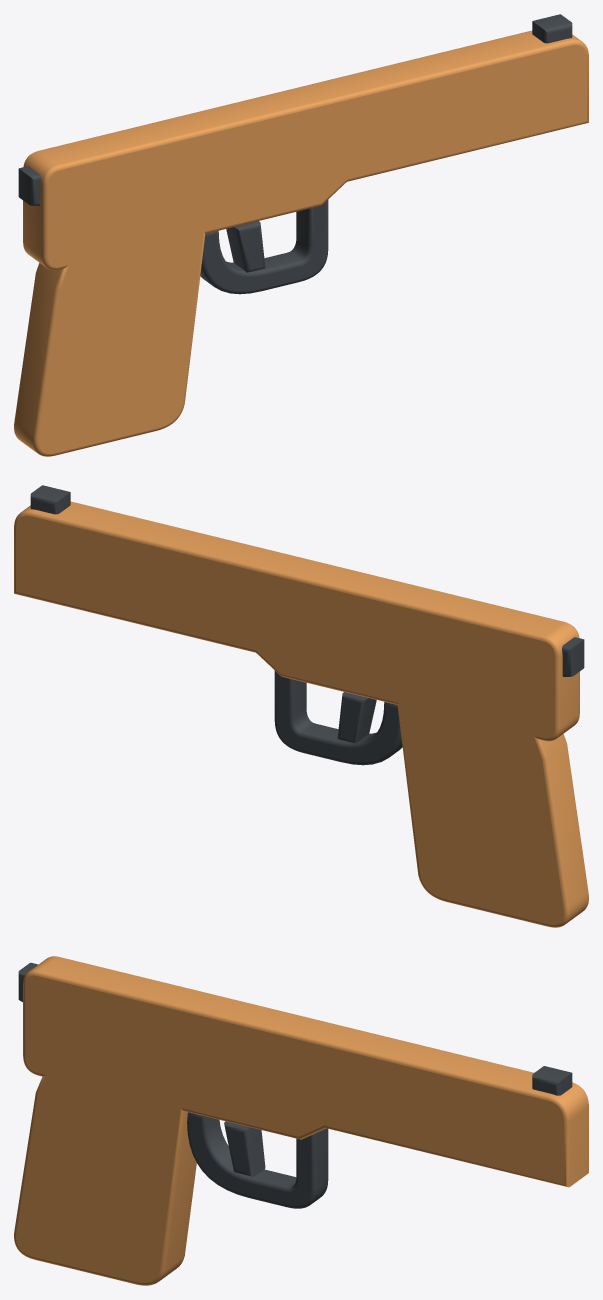
Rendered from deagle.glb.
3 renders of one model, top to bottom at view 1: azimuth 30°, elevation 25°; view 2: azimuth 150°, elevation 25°; view 3: azimuth 330°, elevation 25°, orthographic.
Parts seen in each view (by area): view 1: paint_0, paint_2, metal_3, metal_4, metal_5, metal_1; view 2: paint_0, paint_2, metal_3, metal_4, metal_5, metal_1; view 3: paint_0, paint_2, metal_3, metal_4, metal_5.
Part boxes in pixels (x1,y1,x2,y2): paint_0: (23,30,588,270); paint_2: (14,232,205,456); metal_3: (200,199,328,294); metal_4: (226,221,265,272); metal_5: (532,14,572,43); metal_1: (18,166,40,205); paint_0: (14,501,579,741); paint_2: (397,703,588,927); metal_3: (274,670,402,765); metal_4: (337,692,376,743); metal_5: (30,485,70,514); metal_1: (562,637,584,676); paint_0: (23,956,588,1187); paint_2: (14,1075,196,1285); metal_3: (187,1112,328,1208); metal_4: (224,1121,265,1176); metal_5: (532,1066,572,1095).
Bounding box in the file's own units: 264 × 137 × 18.85.
